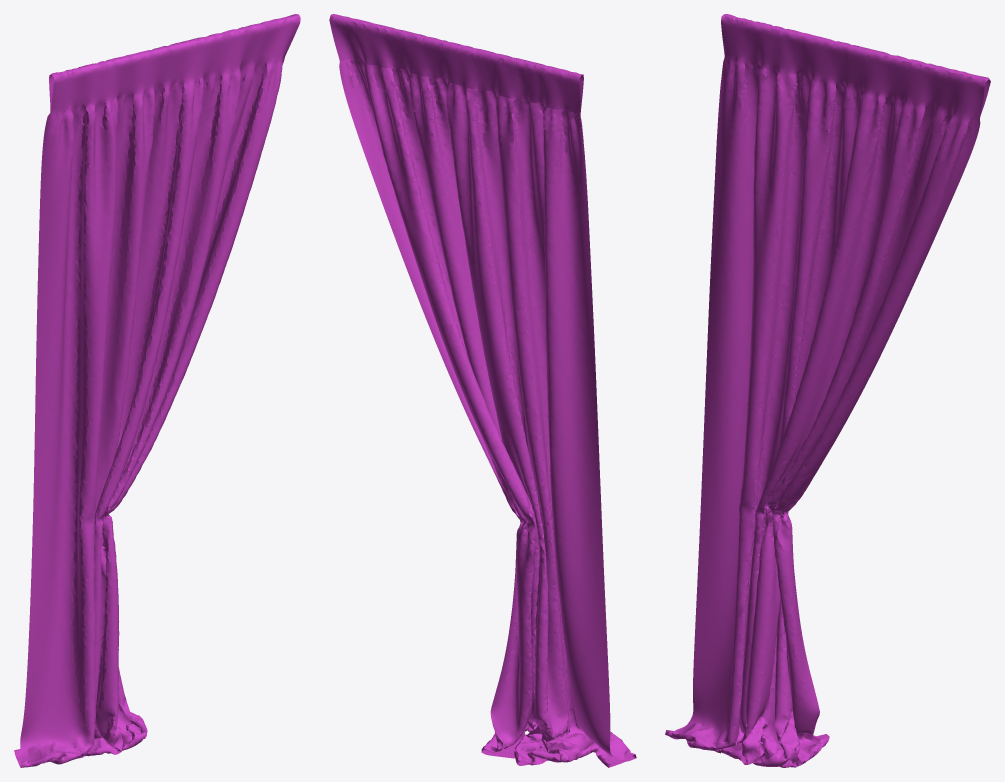
Rendered from homeCurtain.FBX.
The picture shows the model from 3 angles, left to right: view 1: azimuth 30°, elevation 25°; view 2: azimuth 150°, elevation 25°; view 3: azimuth 330°, elevation 25°; orthographic projection. The views are drawn at different scales.
Visible parts, largest first — view 1: Cloth_Shap; view 2: Cloth_Shap; view 3: Cloth_Shap.
Part boxes in pixels (x1,y1,x2,y2): Cloth_Shap: [14, 14, 300, 767]; Cloth_Shap: [329, 14, 636, 767]; Cloth_Shap: [665, 14, 990, 767].
Bounding box in the file's own units: 25.49 × 56.53 × 7.66.
